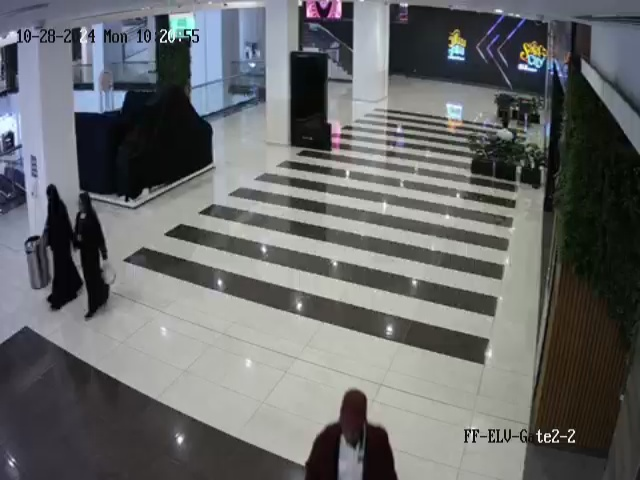female: (65, 183, 123, 323), (33, 173, 81, 308)
male: (303, 389, 399, 480), (492, 107, 519, 153)
